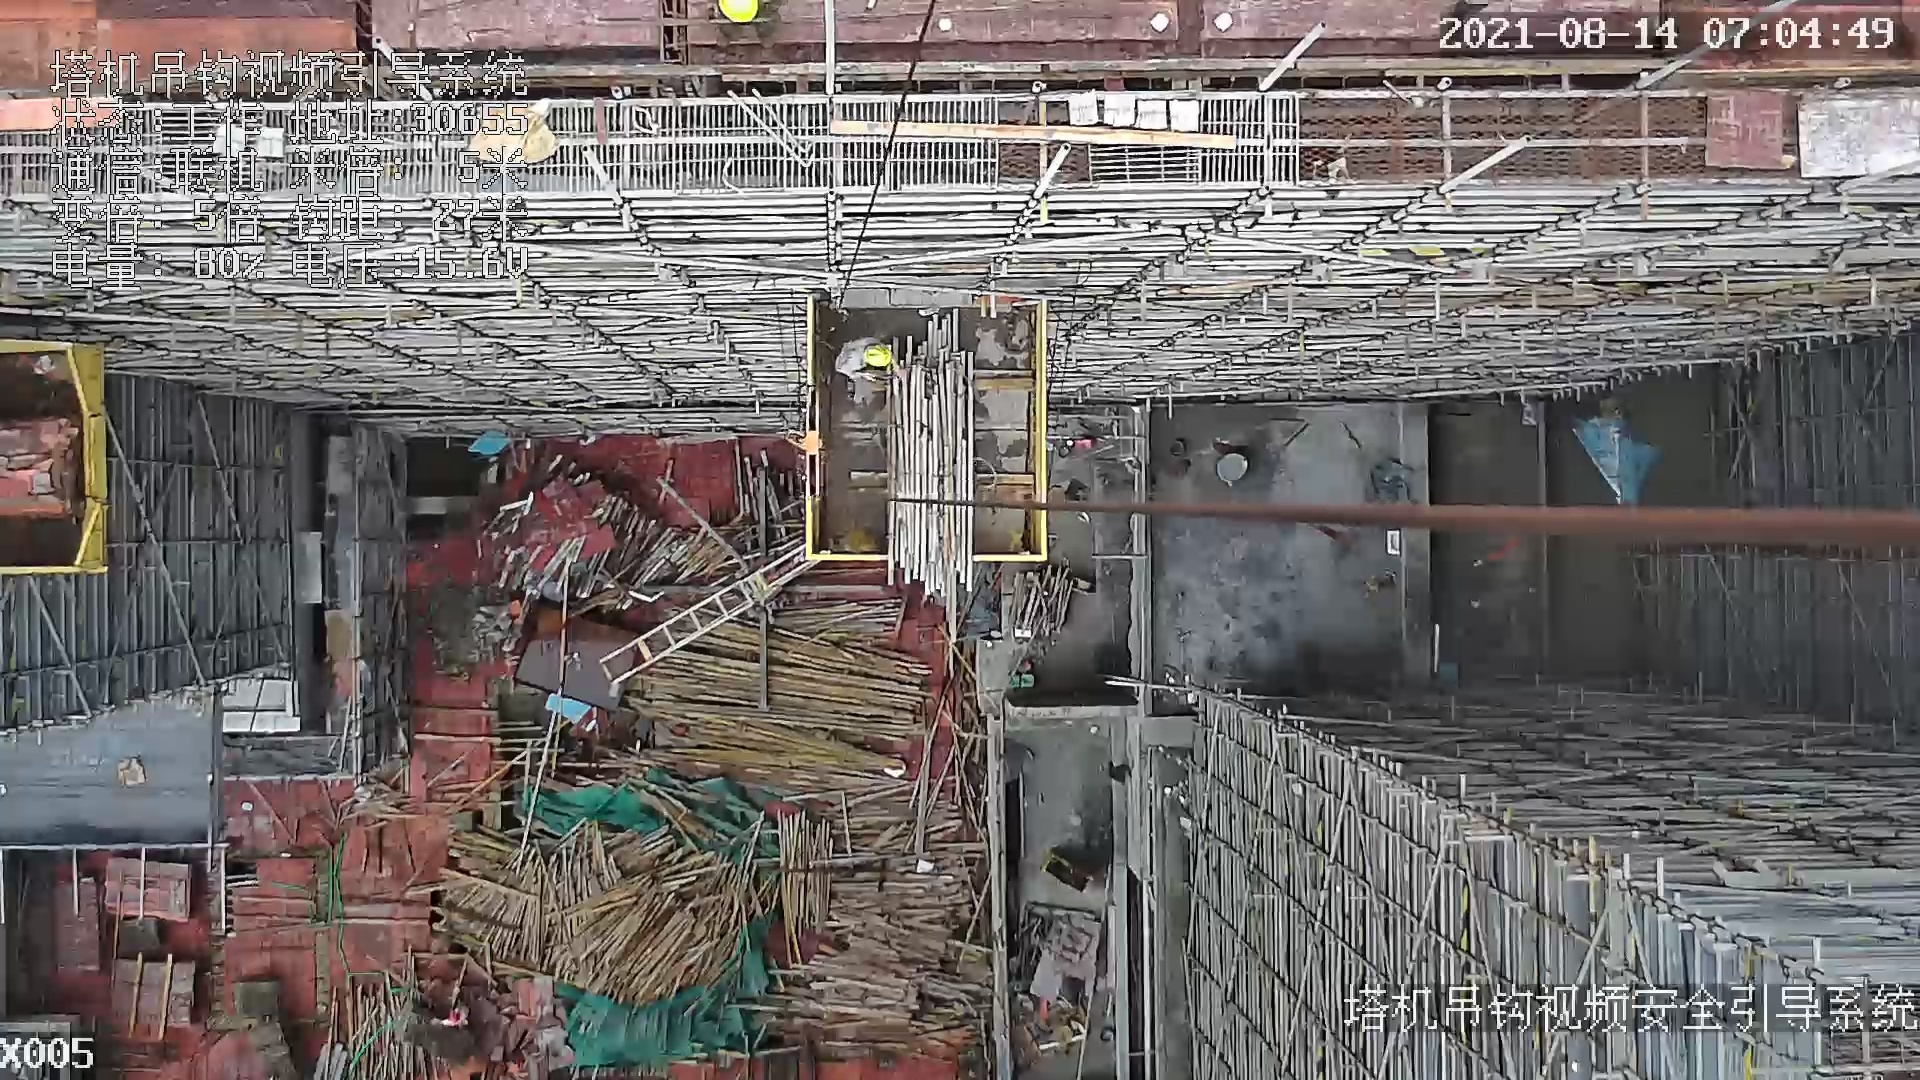helmet: (865, 346, 893, 368)
hook: (785, 387, 826, 503)
person: (841, 333, 912, 383)
